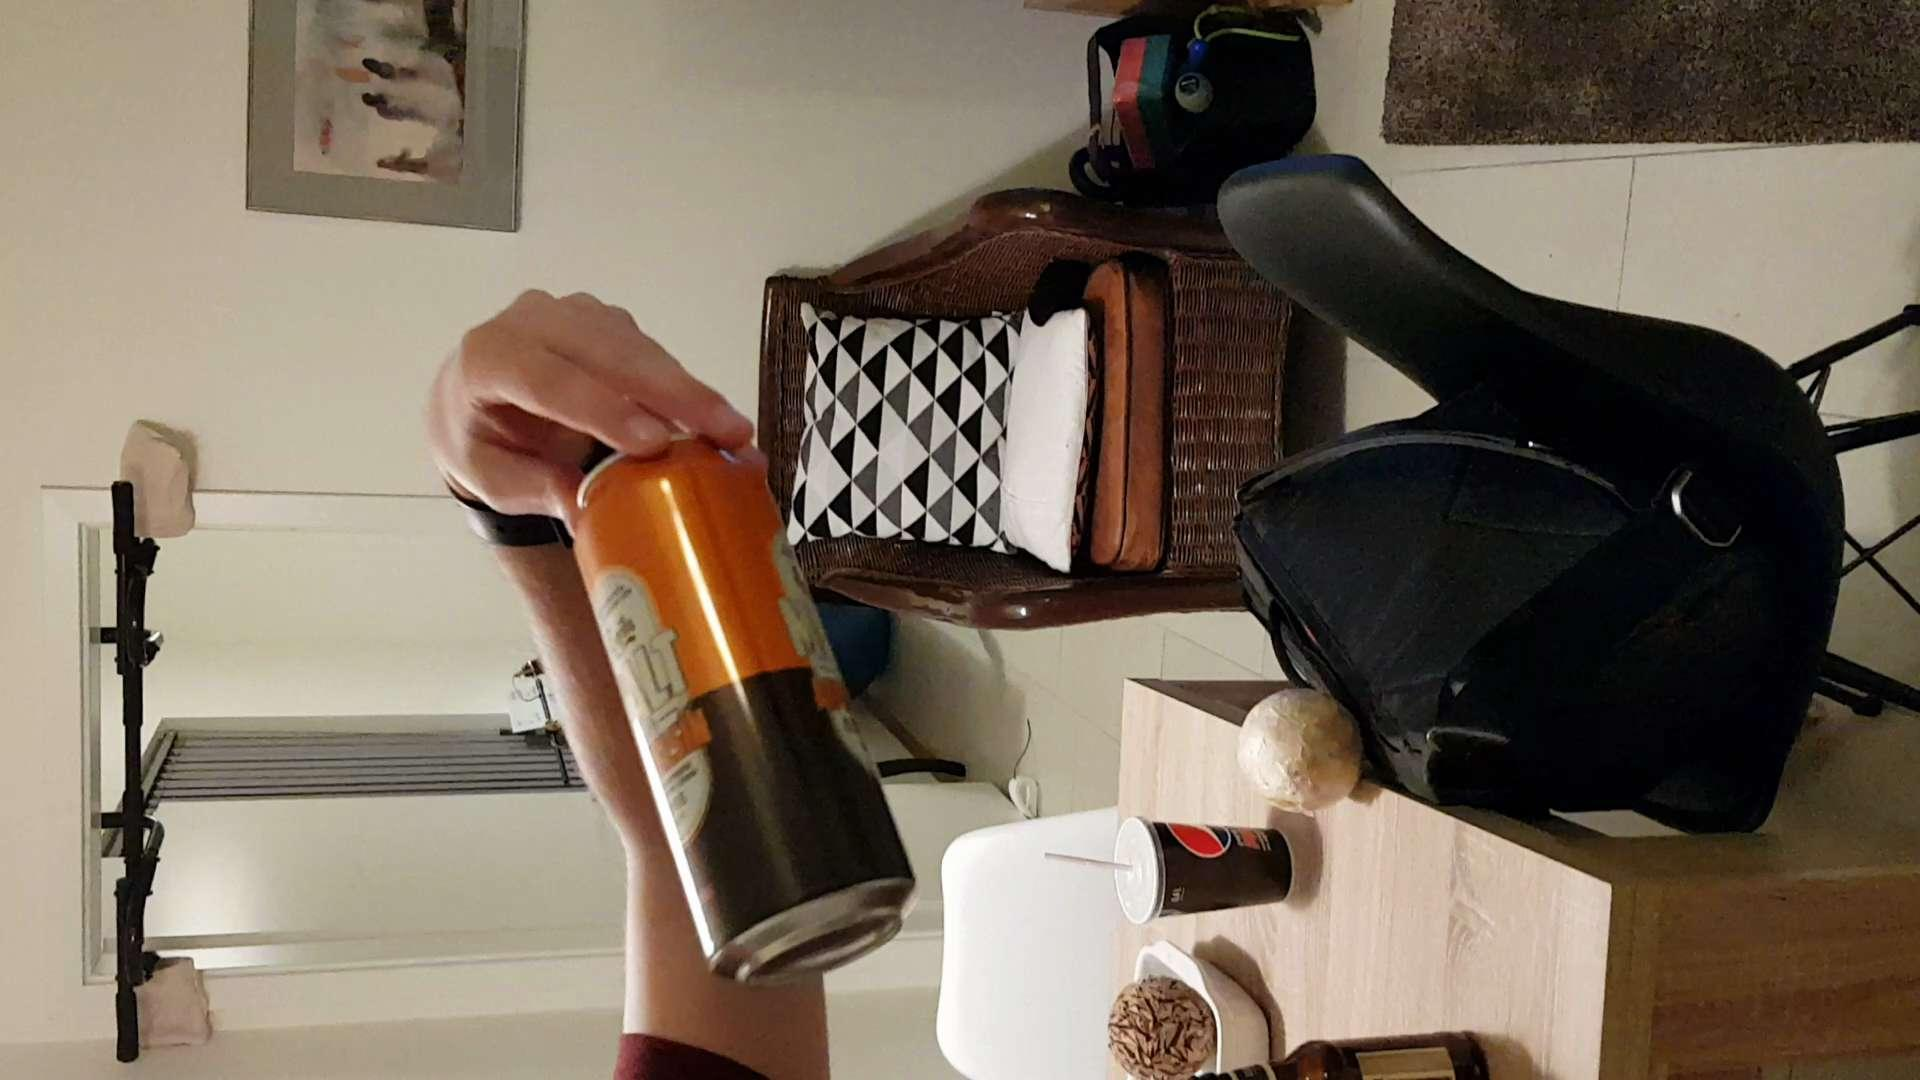Can: (567, 439, 913, 988)
Sphere: (1232, 691, 1369, 808), (1100, 975, 1220, 1080)
